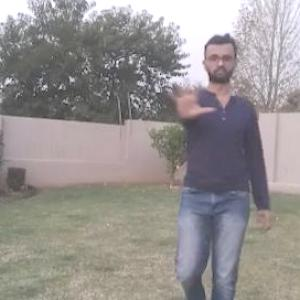follow_hand: (160, 73, 218, 122)
